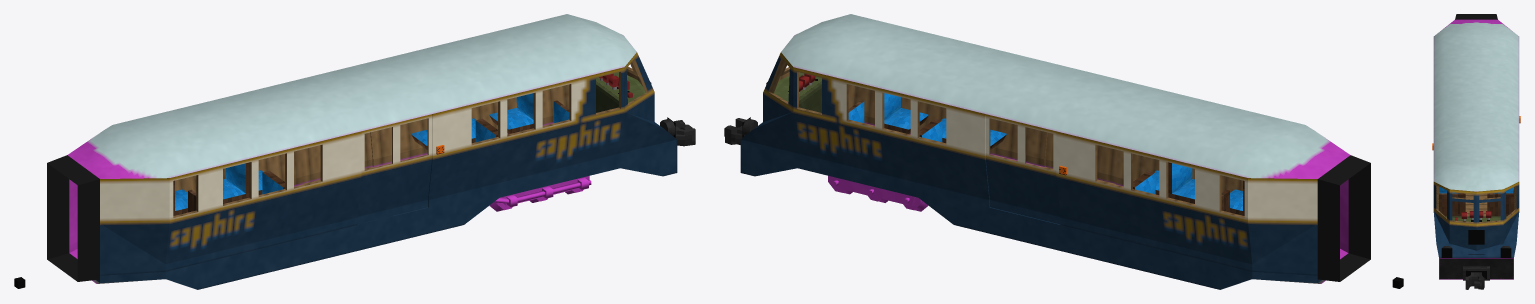
File: sapphire_express_5.obj
3 views of the same model, side by side, from view 1: azimuth 30°, elevation 25°; view 2: azimuth 150°, elevation 25°; view 3: azimuth 270°, elevation 25° (orthographic). The views are drawn at different scales.
Parts seen in each view (by area): view 1: FRAME_ext_roof, FRAME_ext_body.002, FRAME_ext_body.001, connector, FRAME_int_body.001, DOOR_6_CG_doorleft_NOTOUCH, FRAME_int_body.002, DOOR_5_CG_doorleft_NOTOUCH, bench.007, bench, controls.001, DOOR_3_NOTOUCH_EXTERNAL (+2 smaller); view 2: FRAME_ext_roof, FRAME_ext_body.002, FRAME_ext_body.001, connector, FRAME_int_body.001, DOOR_4_CG_doorright_NOTOUCH, FRAME_int_body.002, DOOR_3_CG_doorright_NOTOUCH, bench.006, bench.001, controls.001, BOGEY_REAR_1 (+1 smaller); view 3: FRAME_ext_roof, FRAME_ext_body.001, bench.001, bench, FRAME_int_body.001, COUPLED_REAR_4_HIDE_INVERT, COUPLER_ENGAGED_REAR_2_TOGGLE_LABEL_Uncouple, FRAME_int_floor, HEADLIGHT_4_0xFFF0E1_LCG_REVERSERBACKWARD, connector, controls.001, HEADLIGHT_6_0xFF0000_LCG_REVERSERFORWARD (+1 smaller).
Boxes of the visible parts, bbox=[...] form: FRAME_ext_roof: bbox=[67, 14, 636, 178]; FRAME_ext_body.002: bbox=[96, 131, 392, 289]; FRAME_ext_body.001: bbox=[393, 52, 677, 242]; connector: bbox=[47, 155, 99, 281]; FRAME_int_body.001: bbox=[370, 59, 647, 166]; DOOR_6_CG_doorleft_NOTOUCH: bbox=[392, 114, 432, 215]; FRAME_int_body.002: bbox=[69, 144, 322, 252]; DOOR_5_CG_doorleft_NOTOUCH: bbox=[357, 123, 396, 224]; bench.007: bbox=[223, 162, 262, 203]; bench: bbox=[489, 93, 533, 134]; controls.001: bbox=[596, 72, 645, 112]; DOOR_3_NOTOUCH_EXTERNAL: bbox=[300, 145, 320, 183]; FRAME_ext_roof: bbox=[781, 14, 1350, 178]; FRAME_ext_body.002: bbox=[1025, 131, 1321, 289]; FRAME_ext_body.001: bbox=[740, 52, 1024, 242]; connector: bbox=[1317, 155, 1370, 281]; FRAME_int_body.001: bbox=[768, 58, 1047, 166]; DOOR_4_CG_doorright_NOTOUCH: bbox=[985, 114, 1025, 215]; FRAME_int_body.002: bbox=[1095, 144, 1348, 252]; DOOR_3_CG_doorright_NOTOUCH: bbox=[1021, 123, 1060, 224]; bench.006: bbox=[1155, 162, 1194, 203]; bench.001: bbox=[884, 93, 928, 134]; controls.001: bbox=[774, 72, 821, 112]; BOGEY_REAR_1: bbox=[830, 176, 915, 205]; FRAME_ext_roof: bbox=[1433, 19, 1519, 191]; FRAME_ext_body.001: bbox=[1433, 182, 1519, 279]; bench.001: bbox=[1439, 193, 1465, 216]; bench: bbox=[1487, 193, 1513, 216]; FRAME_int_body.001: bbox=[1436, 185, 1516, 223]; COUPLED_REAR_4_HIDE_INVERT: bbox=[1465, 272, 1484, 289]; COUPLER_ENGAGED_REAR_2_TOGGLE_LABEL_Uncouple: bbox=[1463, 266, 1489, 280]; FRAME_int_floor: bbox=[1465, 193, 1487, 216]; HEADLIGHT_4_0xFFF0E1_LCG_REVERSERBACKWARD: bbox=[1468, 230, 1484, 244]; connector: bbox=[1455, 14, 1497, 19]; controls.001: bbox=[1445, 216, 1506, 221]; HEADLIGHT_6_0xFF0000_LCG_REVERSERFORWARD: bbox=[1500, 248, 1511, 257].
Size of the model in its own units: 11.88 by 2.56 by 2.06.
9 materials, 9 textured.
